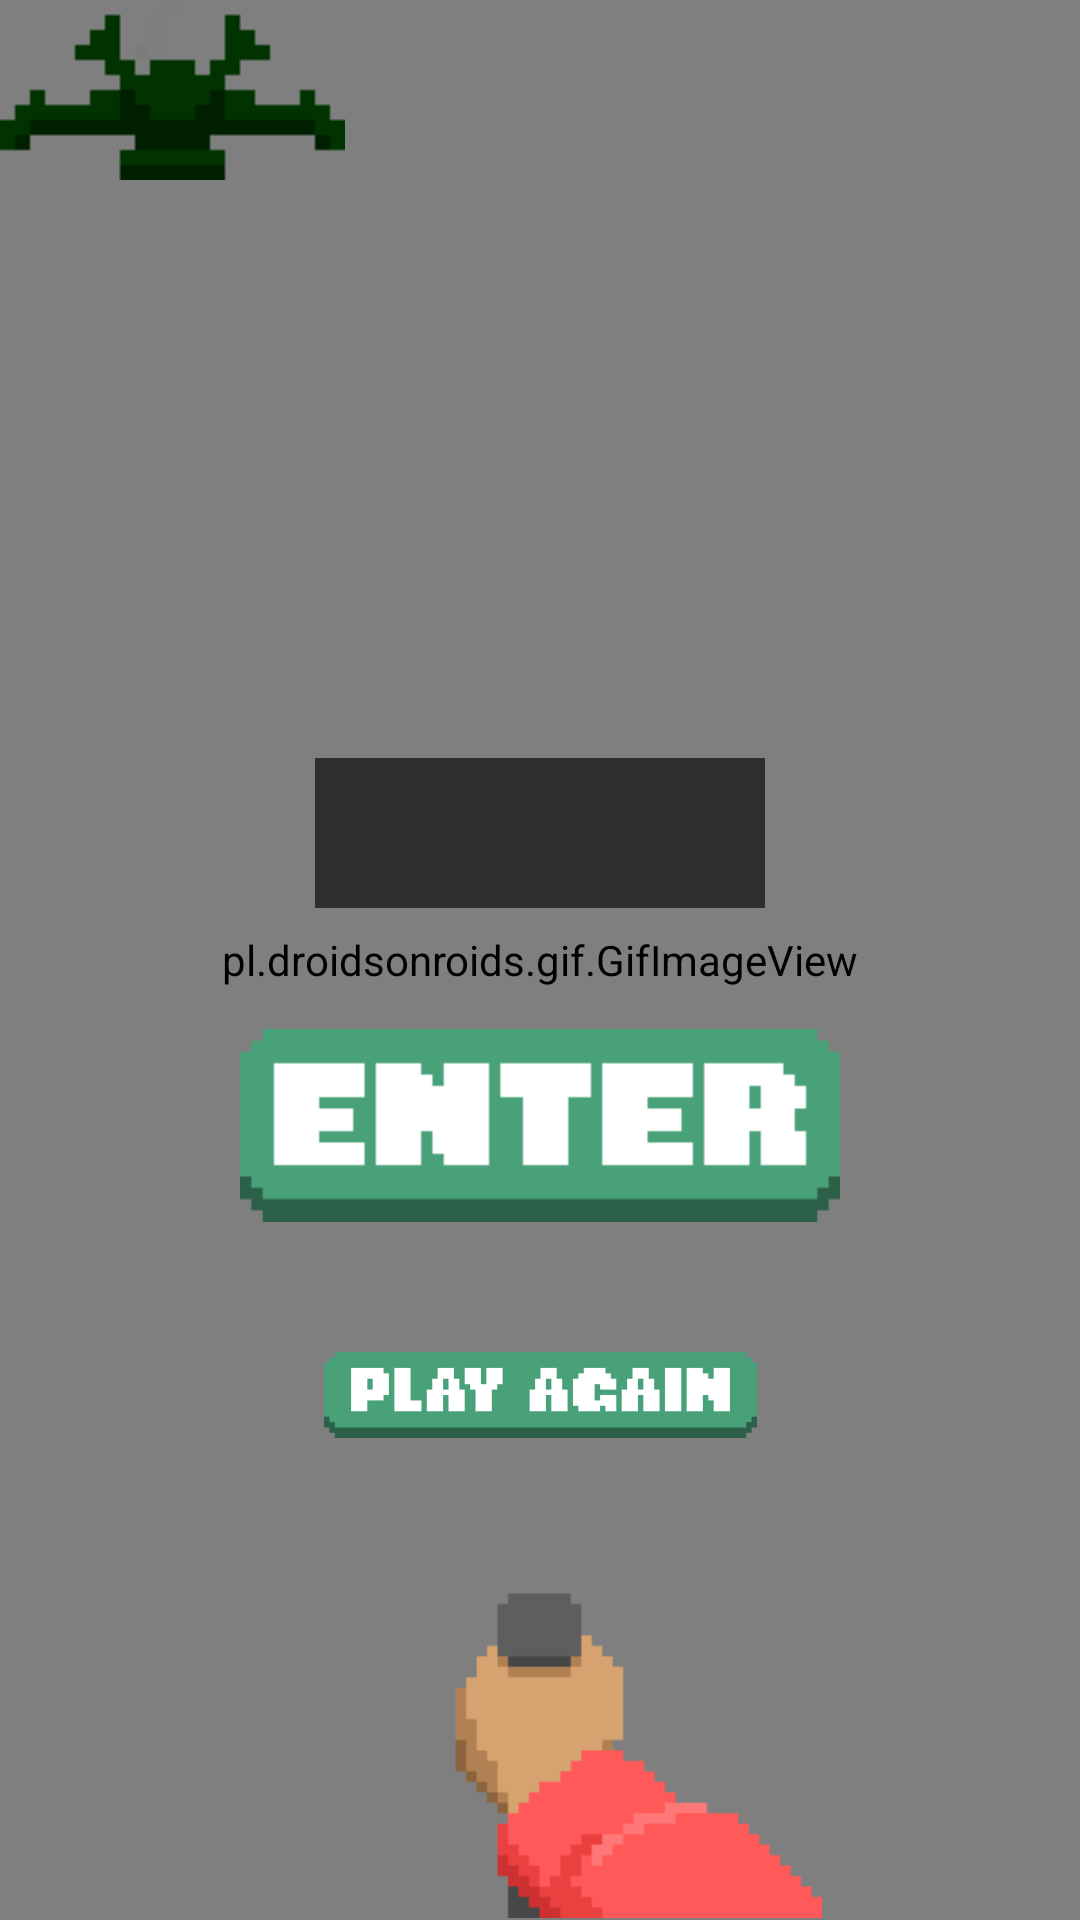

Icon click points for this 1080x1920 phone screenshot, format (x,y):
ship: (172,97)
